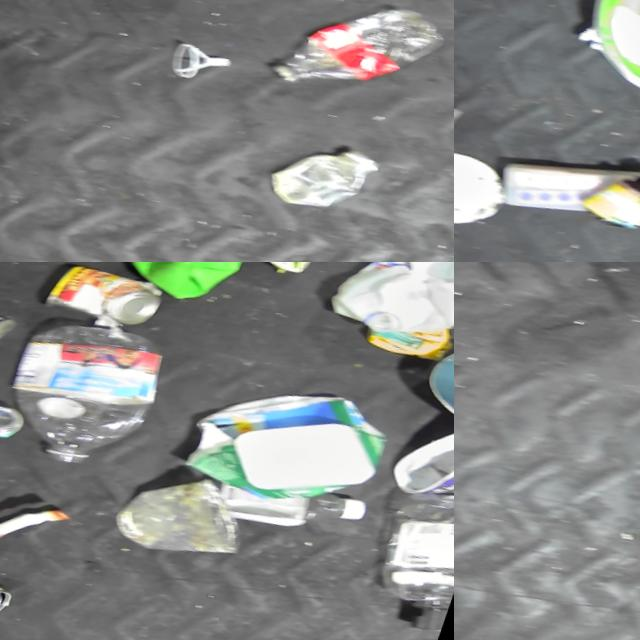can: (41, 262, 176, 345), (0, 375, 41, 484), (0, 565, 29, 634)
milk_jug: (320, 262, 454, 374)
non_white_jug: (36, 262, 277, 328)
plastic_bottle: (0, 305, 181, 489), (269, 0, 454, 123), (211, 468, 383, 560), (364, 487, 454, 640)
